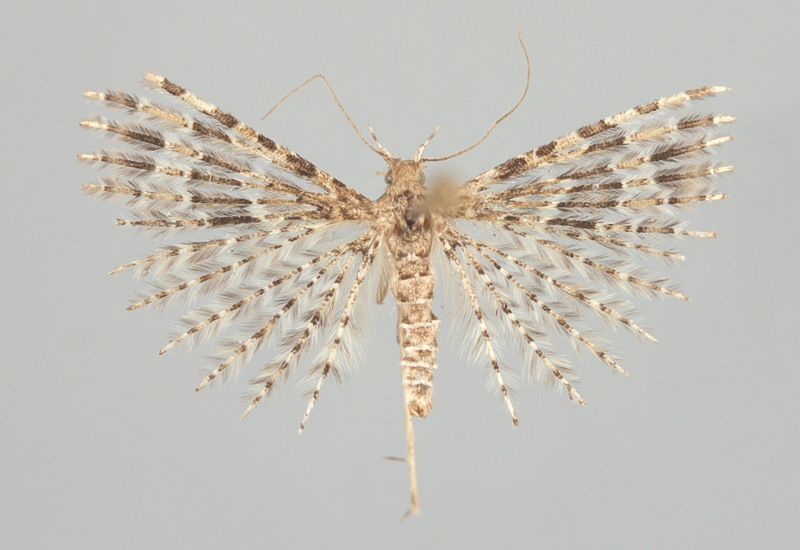Alucitidae: (77, 36, 733, 529)
moth: (75, 34, 731, 527)
